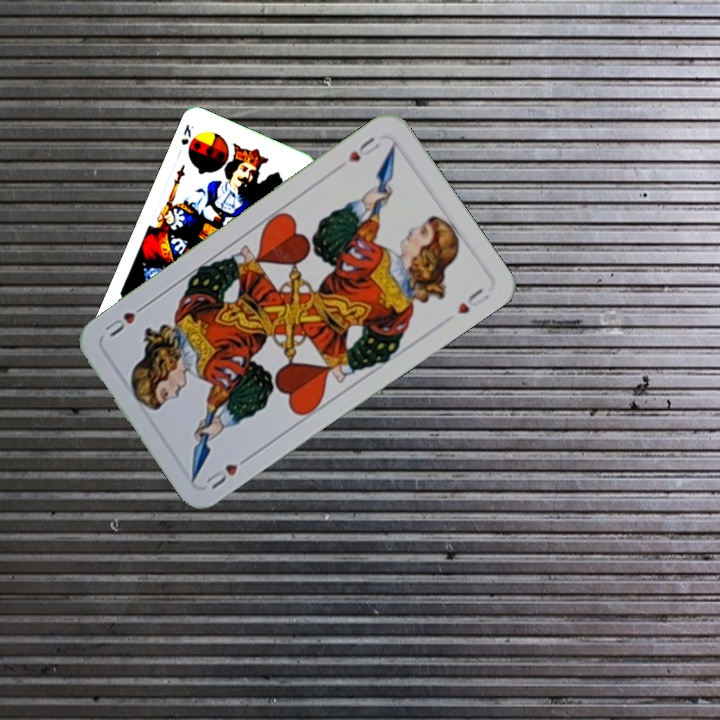HU: (202, 451, 254, 492), (344, 132, 383, 165)
SK: (177, 120, 196, 148)
